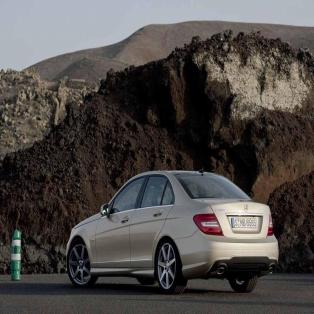Auto: (63, 163, 280, 297)
